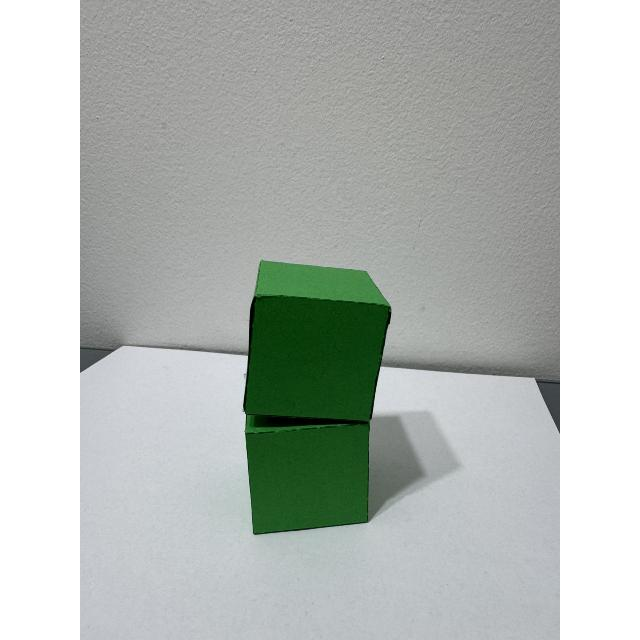green_cube: (238, 240, 398, 584)
